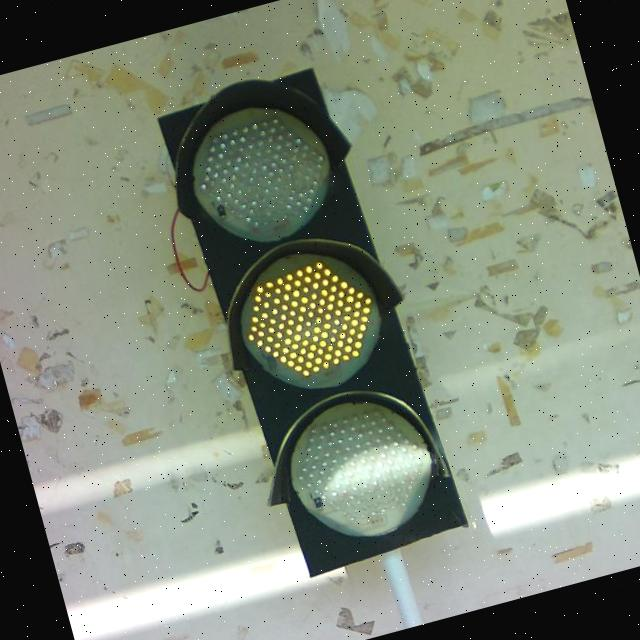yellow_light: (152, 59, 470, 582)
